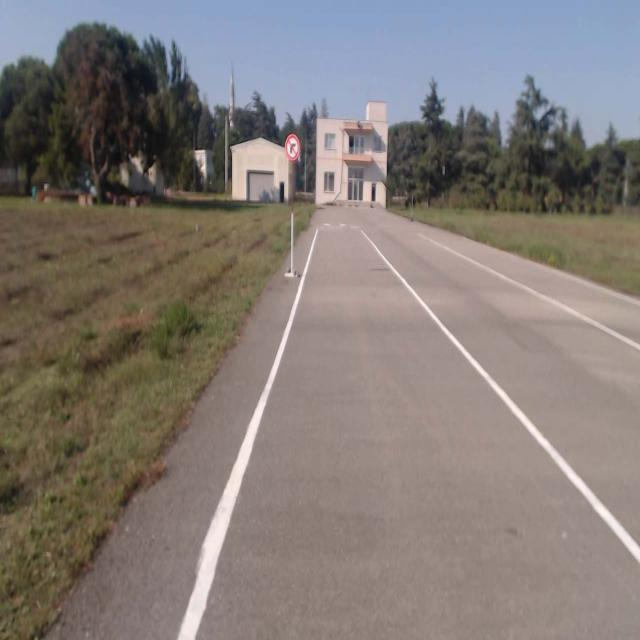sagadonulmez: (285, 133, 300, 161)
